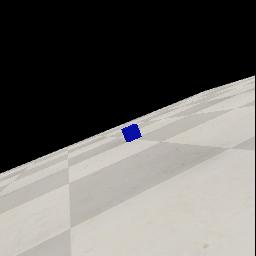box: (121, 124, 142, 142)
